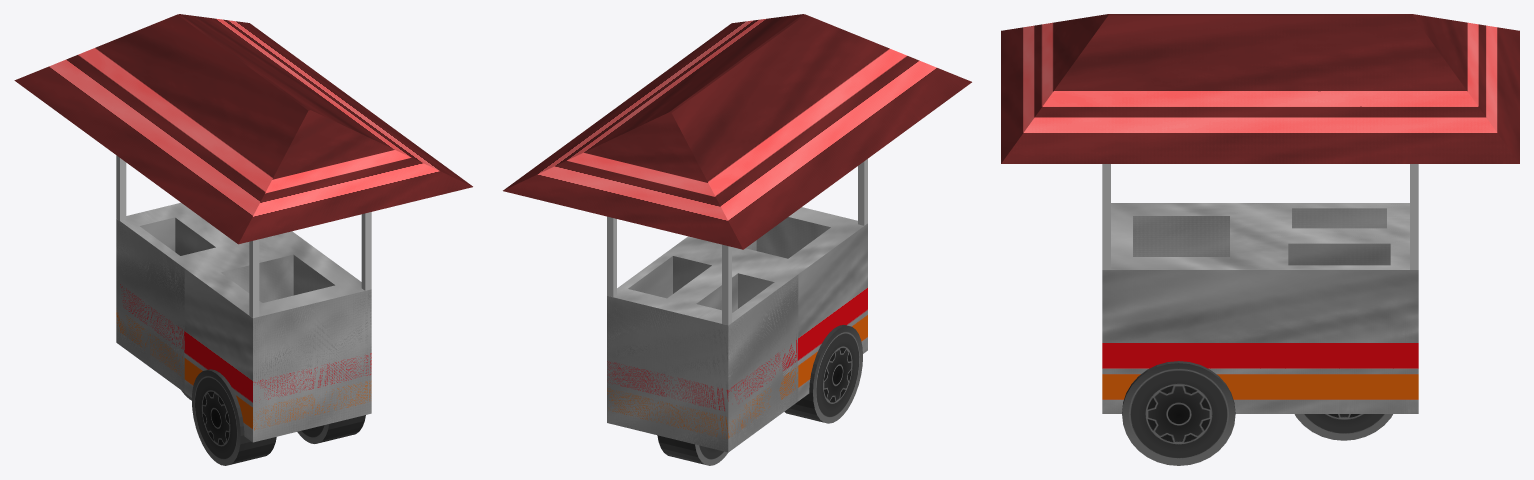
The model's file is osasco.fbx.
3 renders of one model, left to right at view 1: azimuth 30°, elevation 25°; view 2: azimuth 150°, elevation 25°; view 3: azimuth 270°, elevation 25°, orthographic. The views are drawn at different scales.
Parts seen in each view (by area): view 1: Cube.005, Cube, Cylinder.004, Cylinder.003, Cube.003, Cube.004, Cube.002; view 2: Cube.005, Cube, Cylinder.004, Cylinder.005, Cube.002, Cube.001, Cube.003; view 3: Cube.005, Cube, Cylinder.003, Cylinder.005, Cube.001, Cube.004.
Part boxes in pixels (box(x1,y1,x2,y2)): Cube.005: box(14, 14, 472, 244); Cube: box(116, 202, 371, 442); Cylinder.004: box(191, 369, 276, 465); Cylinder.003: box(297, 415, 365, 443); Cube.003: box(249, 239, 259, 317); Cube.004: box(361, 212, 371, 290); Cube.002: box(116, 155, 126, 220); Cube.005: box(503, 14, 971, 249); Cube: box(607, 207, 867, 452); Cylinder.004: box(784, 325, 862, 423); Cylinder.005: box(657, 435, 727, 465); Cube.002: box(722, 244, 731, 325); Cube.001: box(607, 216, 616, 297); Cube.003: box(858, 159, 867, 225); Cube.005: box(1001, 14, 1519, 163); Cube: box(1102, 203, 1418, 413); Cylinder.003: box(1122, 361, 1235, 465); Cylinder.005: box(1294, 414, 1392, 440); Cube.001: box(1410, 164, 1418, 269); Cube.004: box(1102, 164, 1110, 269).
Bounding box in the file's own units: 397 × 578 × 653.
